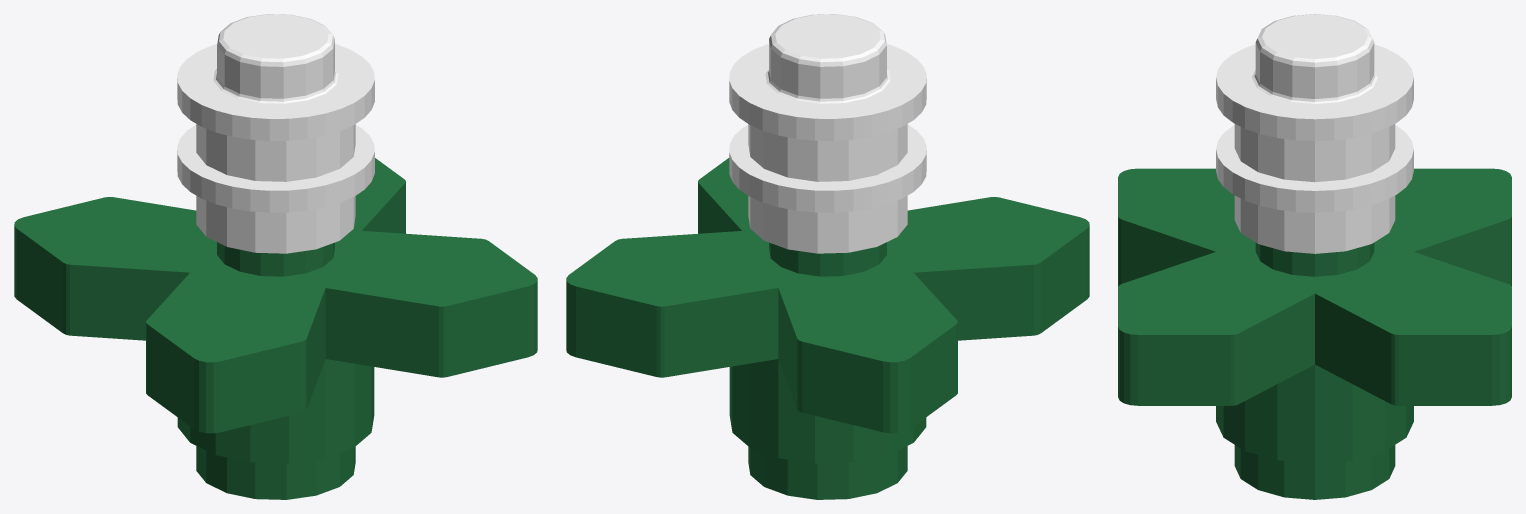
Rendered from flower_white.glb.
The picture shows the model from 3 angles, left to right: view 1: azimuth 30°, elevation 25°; view 2: azimuth 150°, elevation 25°; view 3: azimuth 270°, elevation 25°; orthographic projection.
Visible parts, largest first — view 1: flower_white; view 2: flower_white; view 3: flower_white.
Boxes of the visible parts, bbox=[...] form: flower_white: bbox=[14, 14, 537, 499]; flower_white: bbox=[566, 14, 1089, 499]; flower_white: bbox=[1118, 14, 1511, 499].
Bounding box in the file's own units: 0.7562 × 0.9101 × 0.7562.
